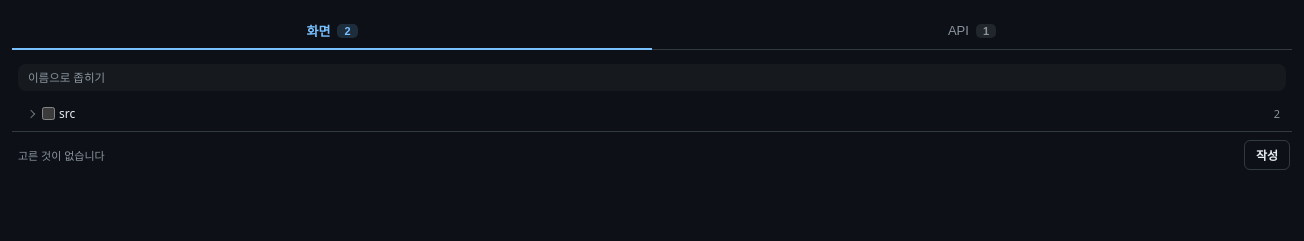
탭을 넘나들며 고른 것 › 고른 것을 탭별로 나누어 적는다 — 지금 안 보는 탭의 것도 나간다
Click the button named "펼치기": (31,114) [24,106,38,120]
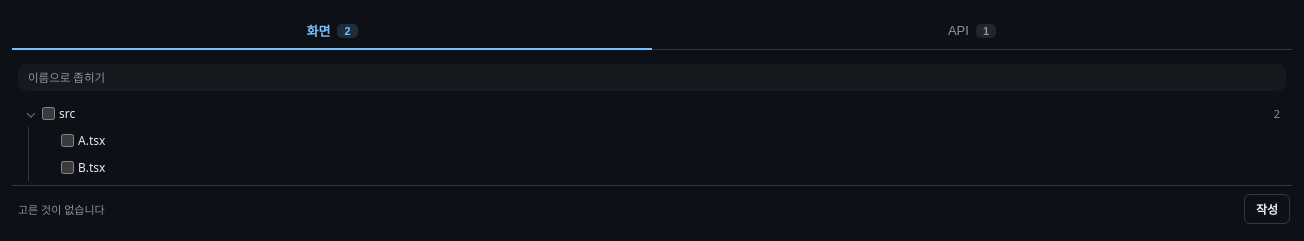
Click the checkbox named "A.tsx": (68,140) [61,134,74,147]
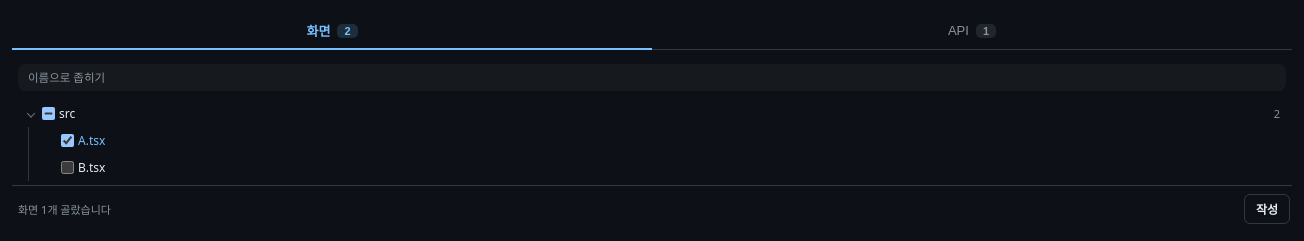
Click the tab "API 1": (958,30) [652,14,1292,50]
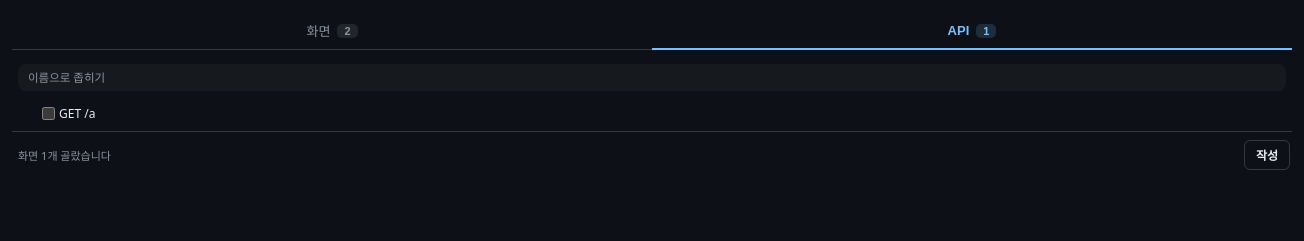
Click the checkbox named "GET /a": (48,114) [42,107,55,120]
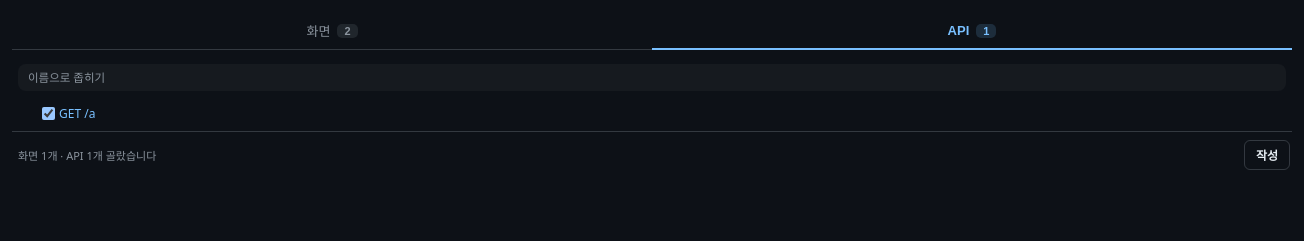
Result: the text "화면 1개 · API 1개 골랐습니다" is shown at [18,148,156,163]
